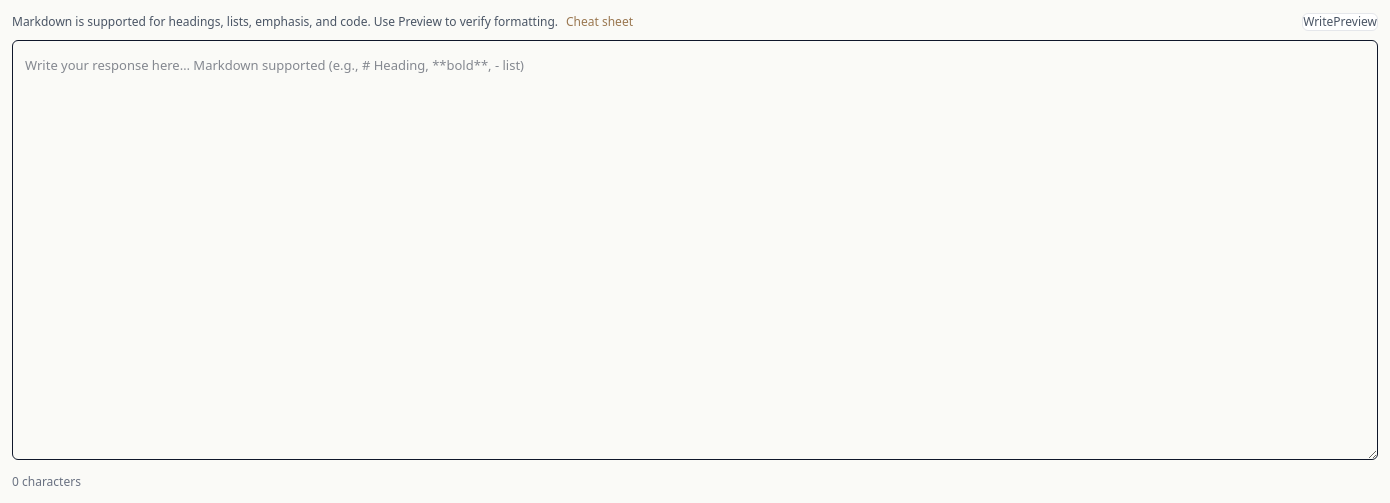
Test: TaskTextInput additional coverage › shows preview placeholder and character count when empty
The width and height of the screenshot is (1390, 503).
Click the button "Preview" at (1355, 22), box [1333,14,1377,30]
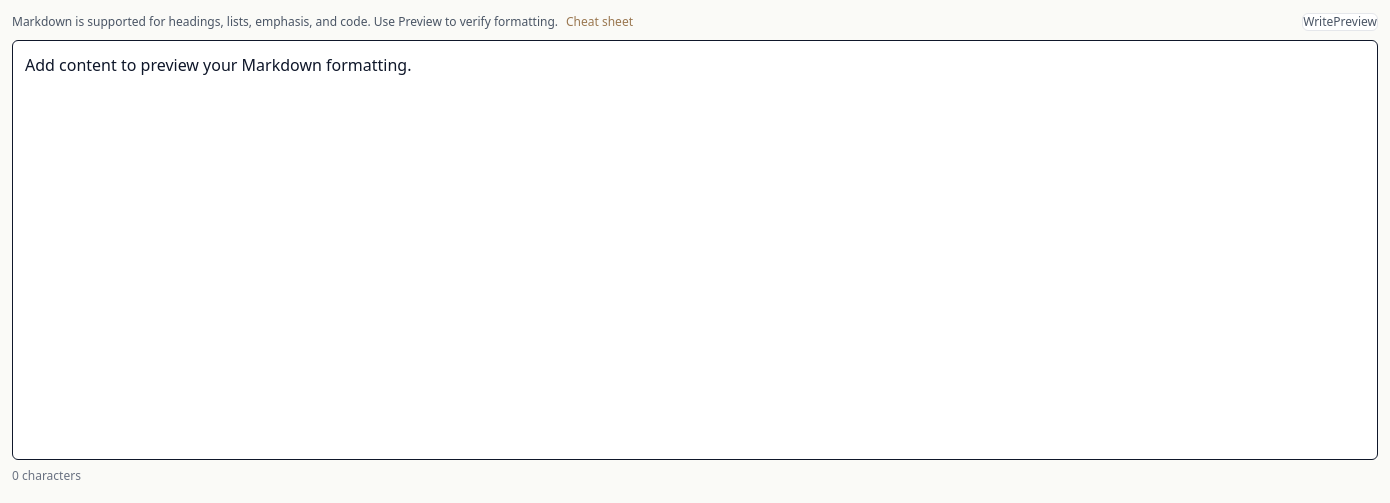
Expected: the text "0 characters" is shown, [12,468,81,484]
Expected: the text "Add content to preview your Markdown formatting." is shown, [25,54,412,76]
